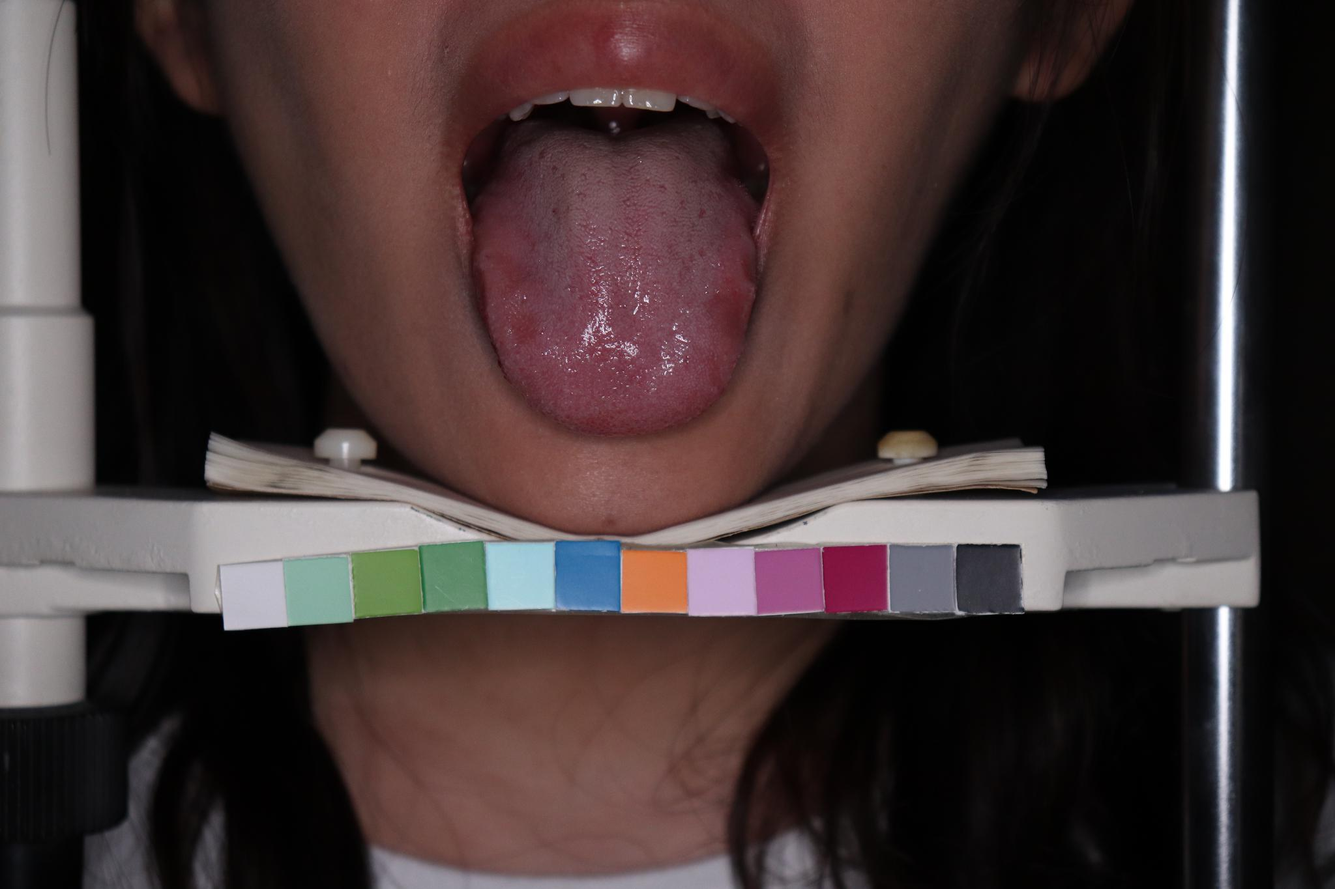baitaishe: (470, 123, 759, 440)
chihenshe: (468, 195, 545, 375), (713, 179, 759, 375)
huataishe: (554, 283, 703, 382)
